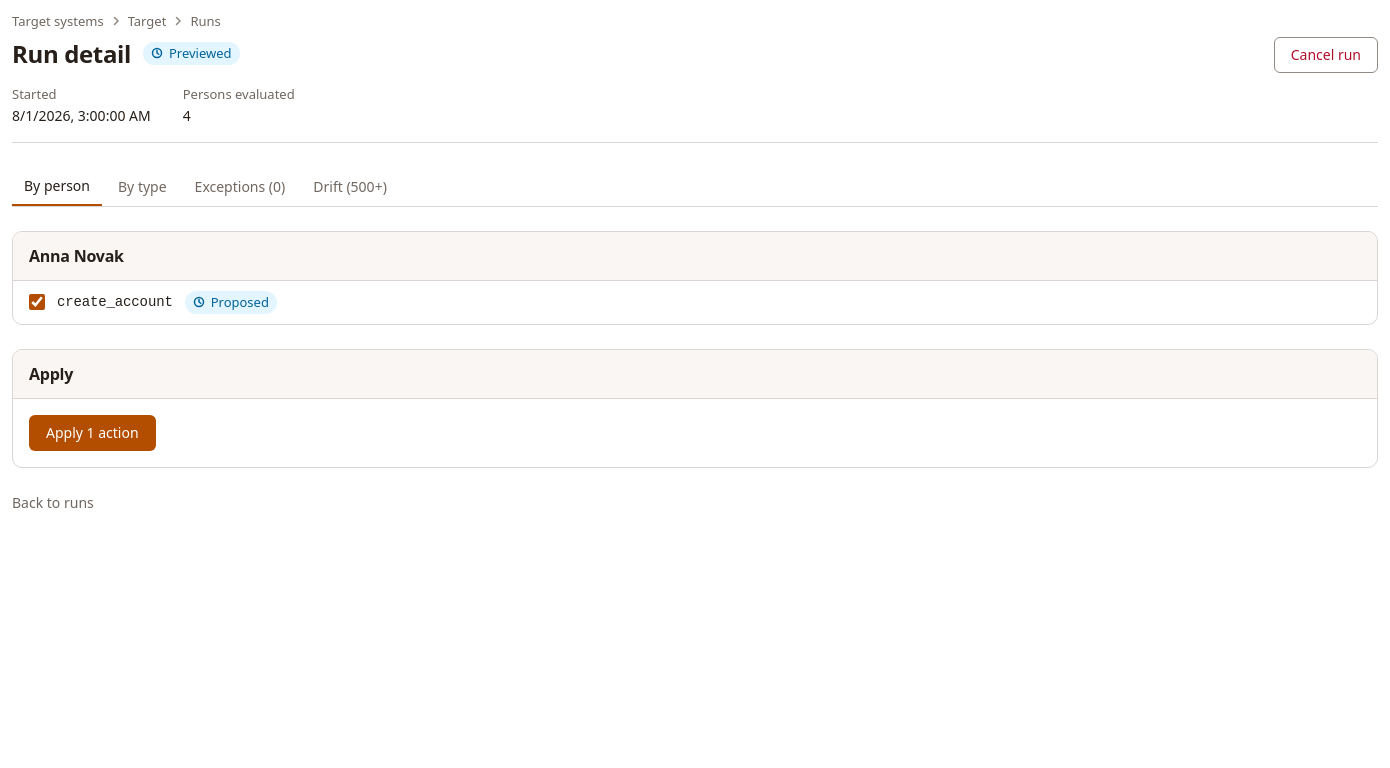
Test: ProvisionRunDetailPage › says so when the drift count has been capped rather than reporting the cap as the total
Click the button "Drift (500+)".
click(350, 187)  # box [301,167,399,206]
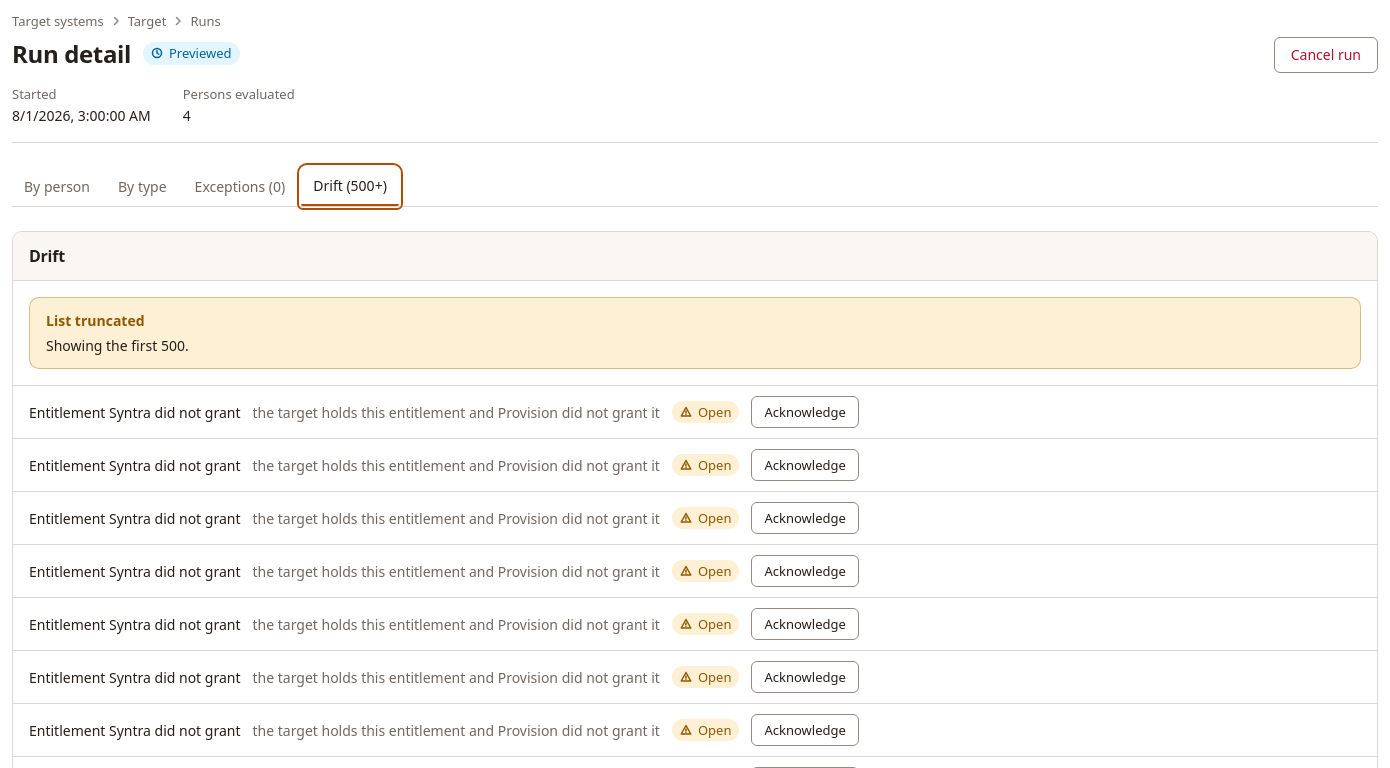
Now the text "List truncated" is shown, box [46,311,144,330]
